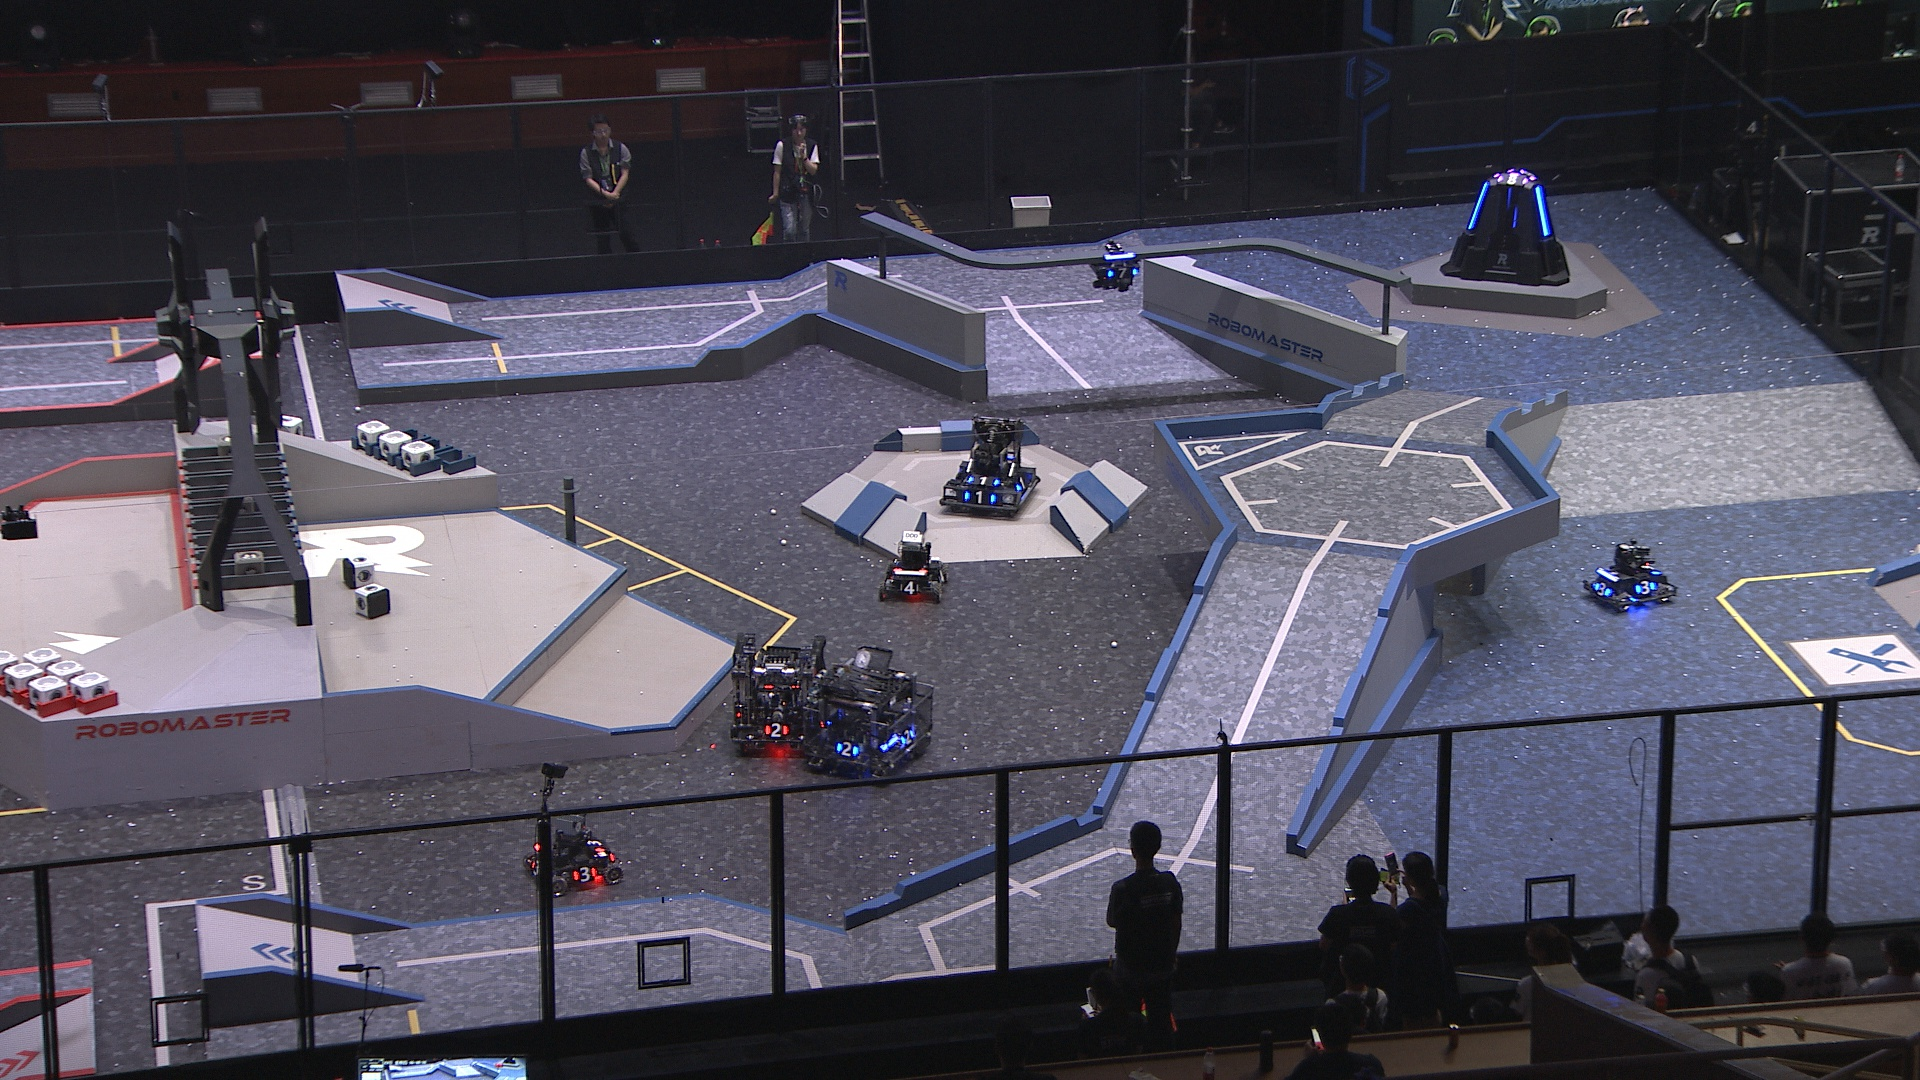armor: (1466, 183, 1490, 232), (1534, 189, 1555, 239), (960, 491, 997, 506), (833, 740, 862, 760), (571, 865, 600, 884), (1633, 579, 1659, 597), (1106, 266, 1141, 280), (965, 473, 1000, 487), (764, 723, 789, 740), (899, 580, 920, 597), (585, 837, 605, 855), (898, 728, 916, 744), (1594, 582, 1613, 597), (1640, 564, 1662, 578), (1015, 473, 1029, 493), (527, 860, 541, 877), (1513, 204, 1520, 232), (938, 566, 945, 585)
base: (1441, 167, 1572, 289)
car: (808, 645, 939, 782), (727, 632, 836, 756), (934, 414, 1040, 520), (520, 814, 621, 901), (1581, 541, 1681, 611), (876, 527, 949, 605)
ignore: (1495, 174, 1532, 189)
watcher: (1091, 237, 1145, 294)
